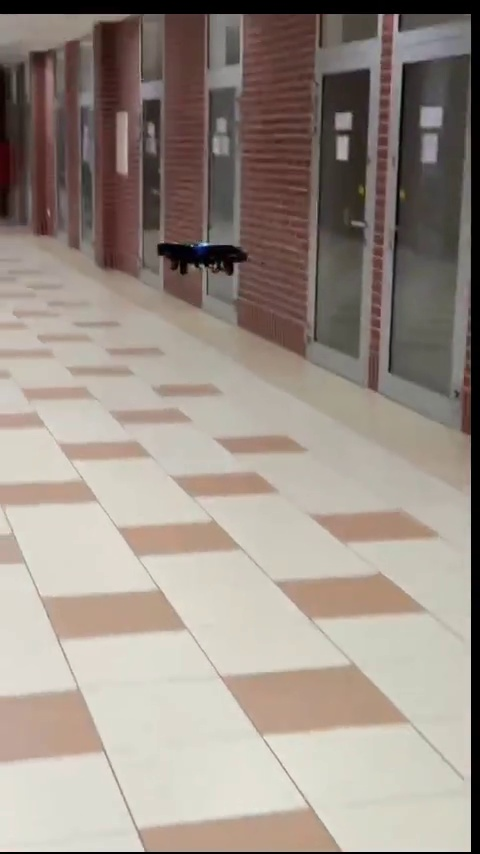drone: (158, 243, 248, 274)
